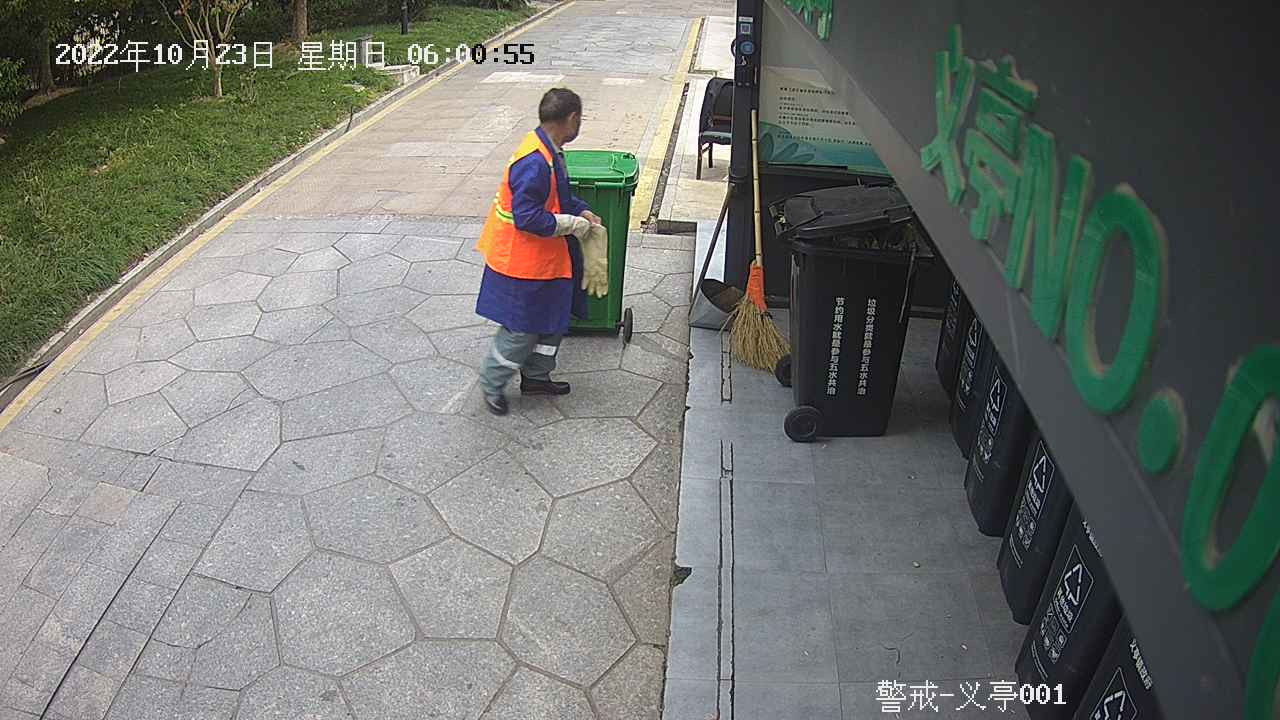worker: (467, 84, 605, 418)
